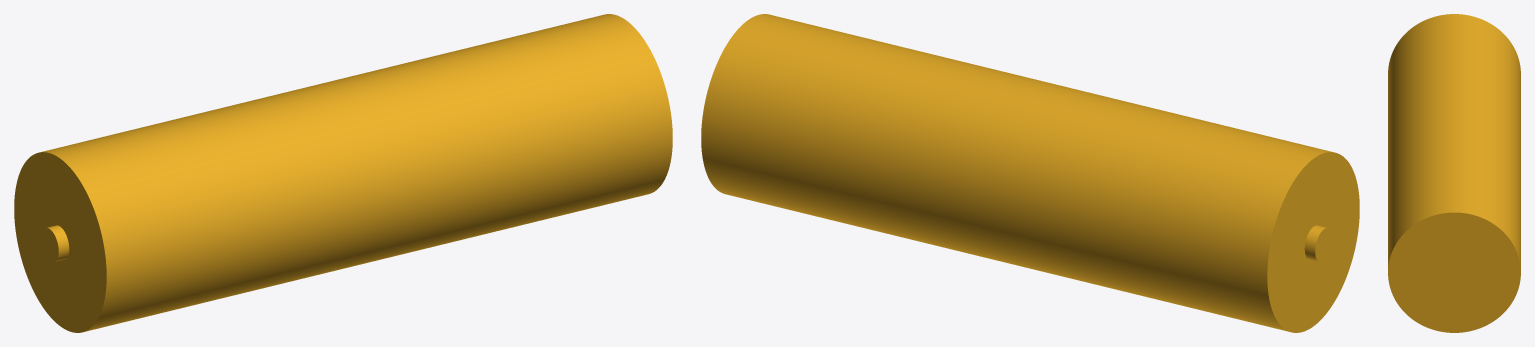
The model's file is BOWMOUNT v15_BOWMOUNT v15_Battery.obj.
3 renders of one model, left to right at view 1: azimuth 30°, elevation 25°; view 2: azimuth 150°, elevation 25°; view 3: azimuth 270°, elevation 25°, orthographic. The views are drawn at different scales.
Visible parts, largest first — view 1: Battery; view 2: Battery; view 3: Battery.
Boxes of the visible parts, x1,y1,x2,y2 form: Battery: (14, 14, 672, 332); Battery: (701, 14, 1359, 332); Battery: (1388, 14, 1520, 332).
Bounding box in the file's own units: 66.2 × 18.4 × 18.4.
